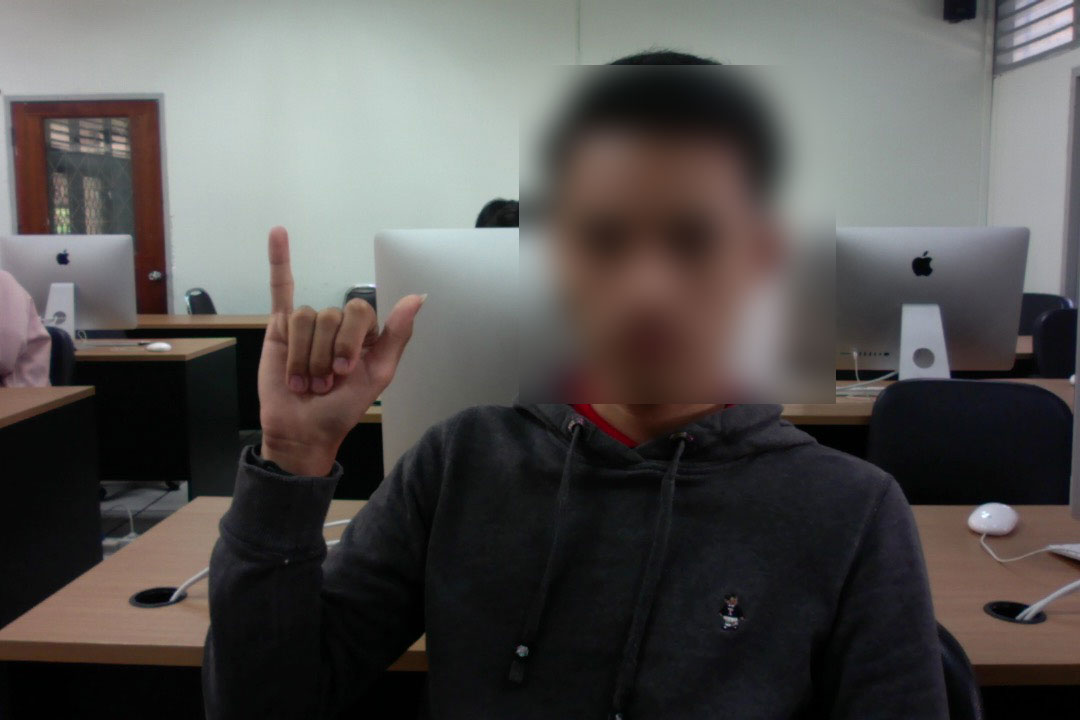yor: (253, 221, 431, 464)
